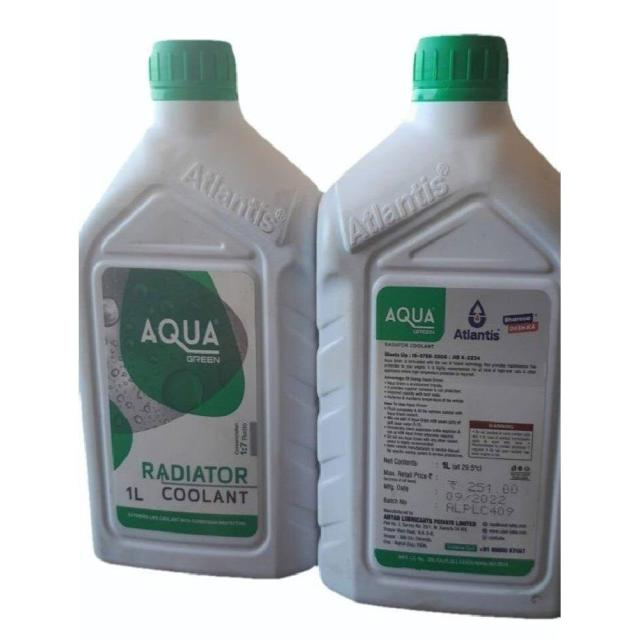coolant: (315, 29, 567, 627), (75, 35, 315, 583)
